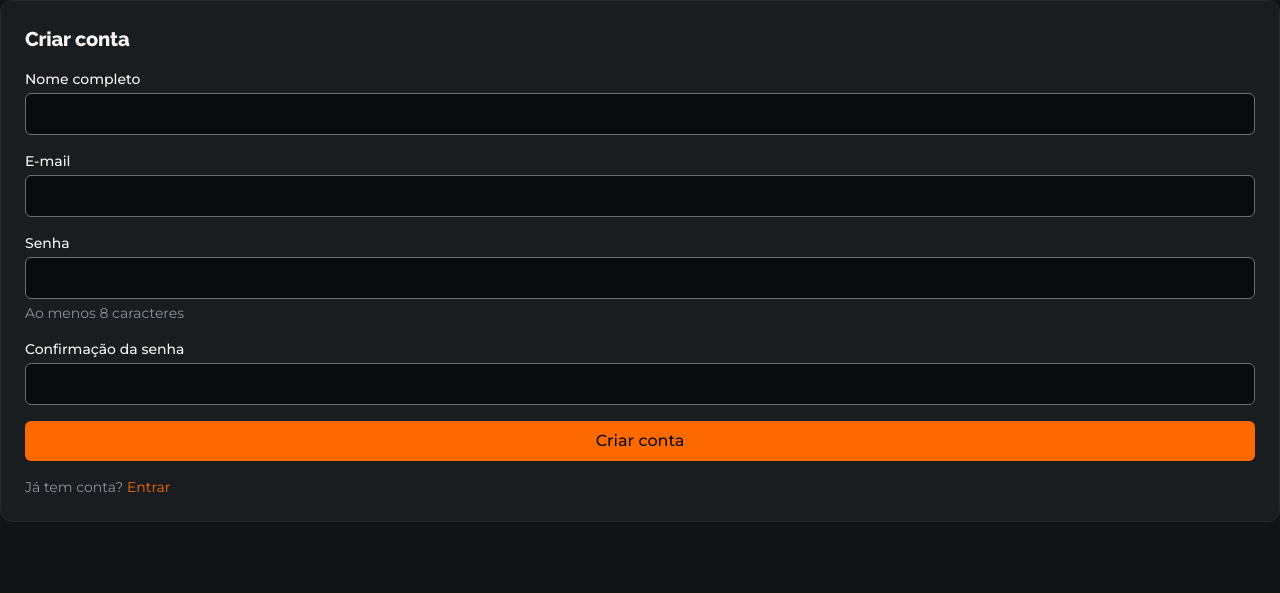
Cadastro › orienta quando o e-mail já tem conta
Type "Joana Silva" into the field labelled "Nome completo" at (640,114), box x1=25 y1=93 x2=1255 y2=135
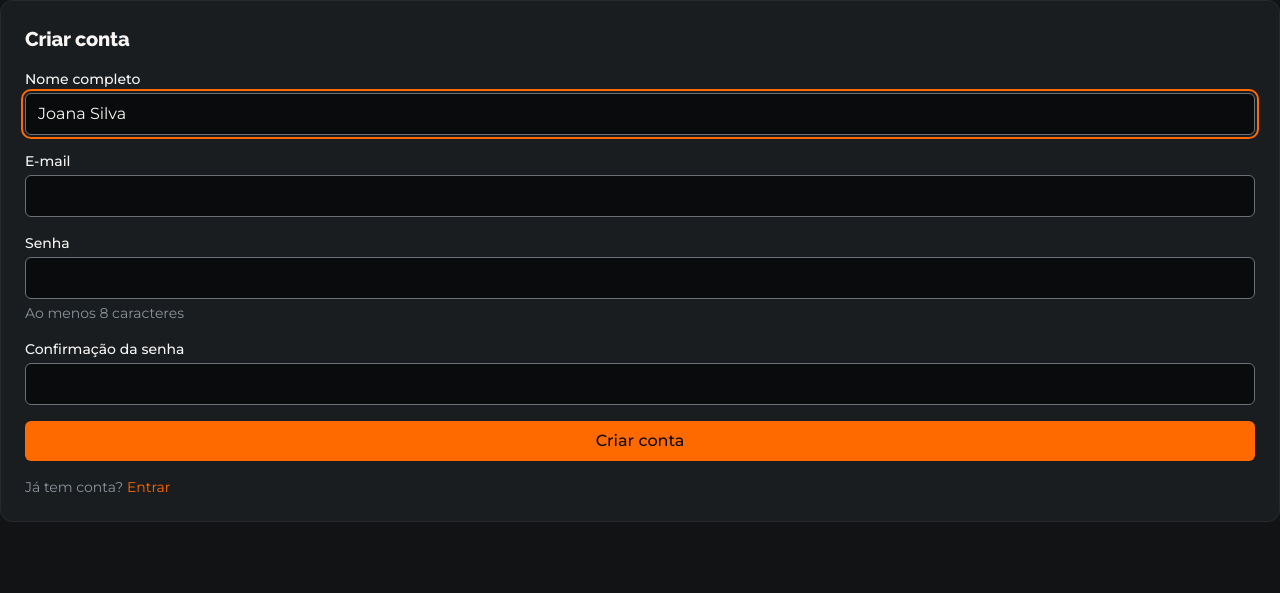
Type "joana@exemplo.com" into the field labelled "E-mail" at (640,196), box x1=25 y1=175 x2=1255 y2=217
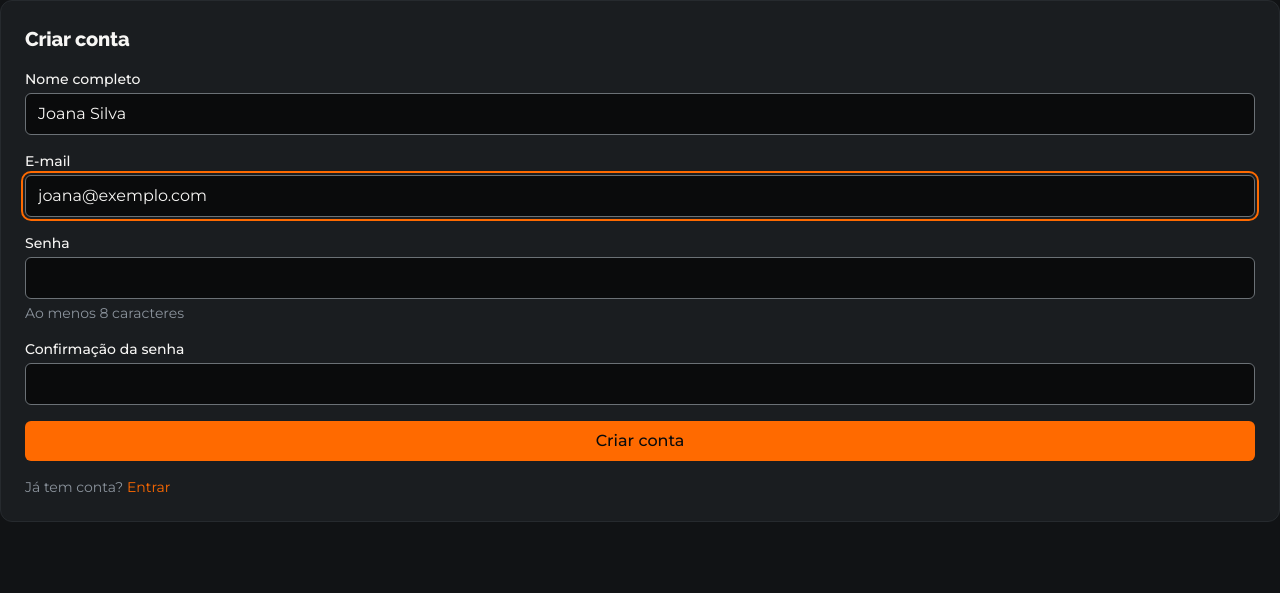
Type "senha-valida-123" into the password field labelled "Senha" at (640,278), box x1=25 y1=257 x2=1255 y2=299
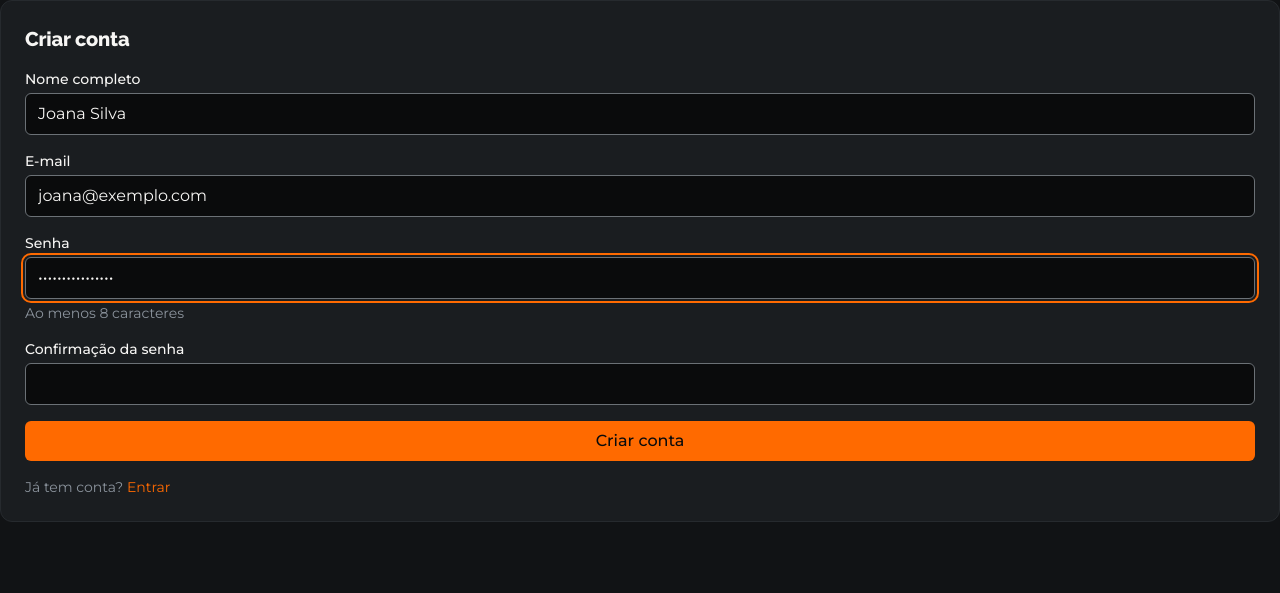
Type "senha-valida-123" into the password field labelled "Confirmação da senha" at (640,384), box x1=25 y1=363 x2=1255 y2=405
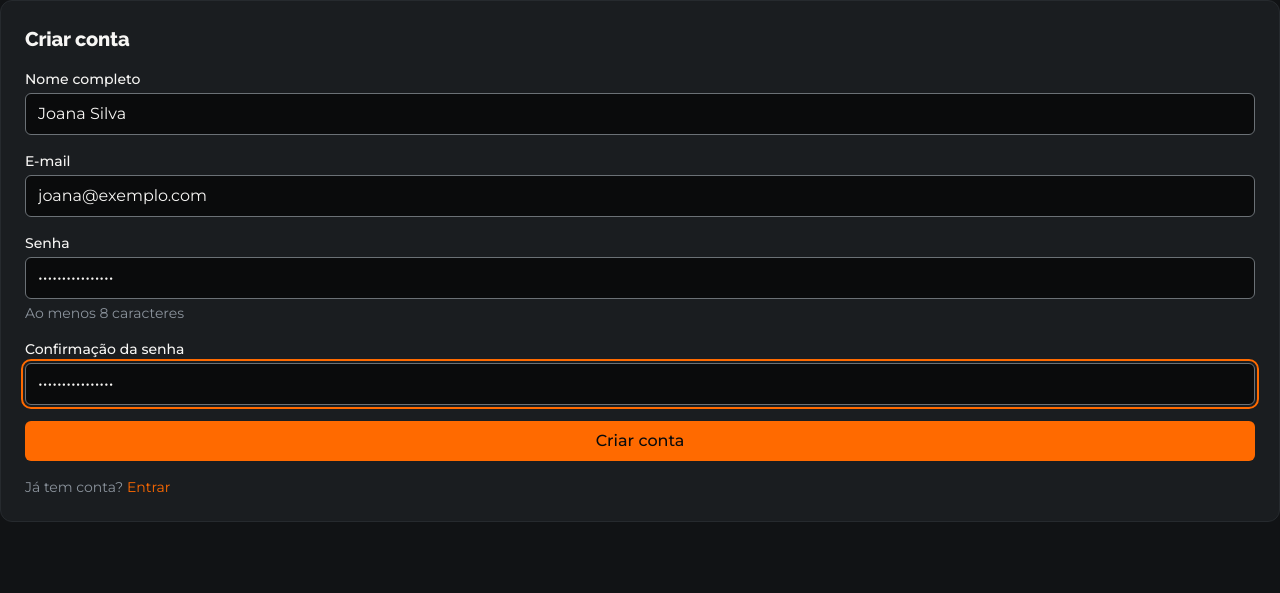
Click the button "Criar conta" at (640,441), box x1=25 y1=421 x2=1255 y2=461
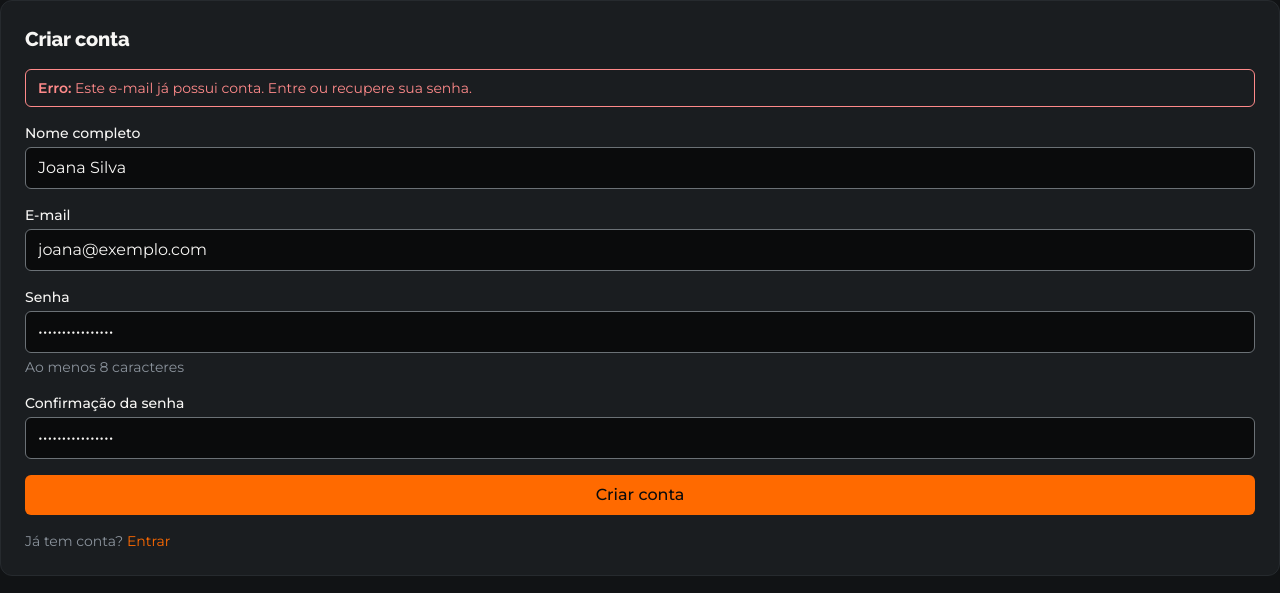
Expected: the message shows "já possui conta", x1=75 y1=79 x2=472 y2=97
